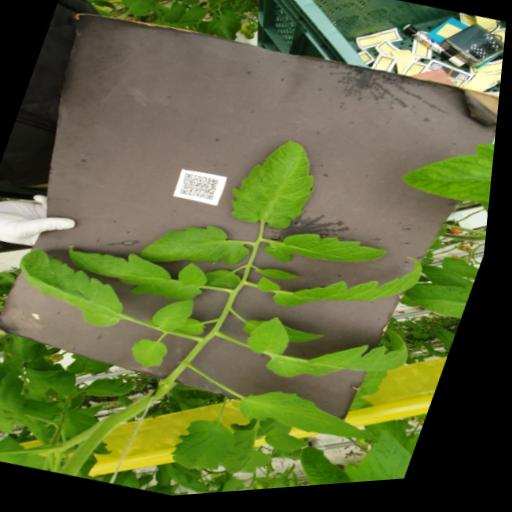Healthy: (254, 225, 436, 347), (266, 305, 425, 414), (59, 231, 222, 319), (236, 378, 402, 463), (6, 240, 147, 339), (226, 133, 332, 242), (397, 121, 501, 223), (138, 209, 265, 290), (263, 221, 396, 294), (333, 426, 429, 490), (173, 414, 249, 483), (405, 279, 479, 330), (248, 315, 305, 367), (154, 292, 204, 338), (132, 334, 180, 376), (269, 431, 319, 463), (257, 266, 308, 291)
